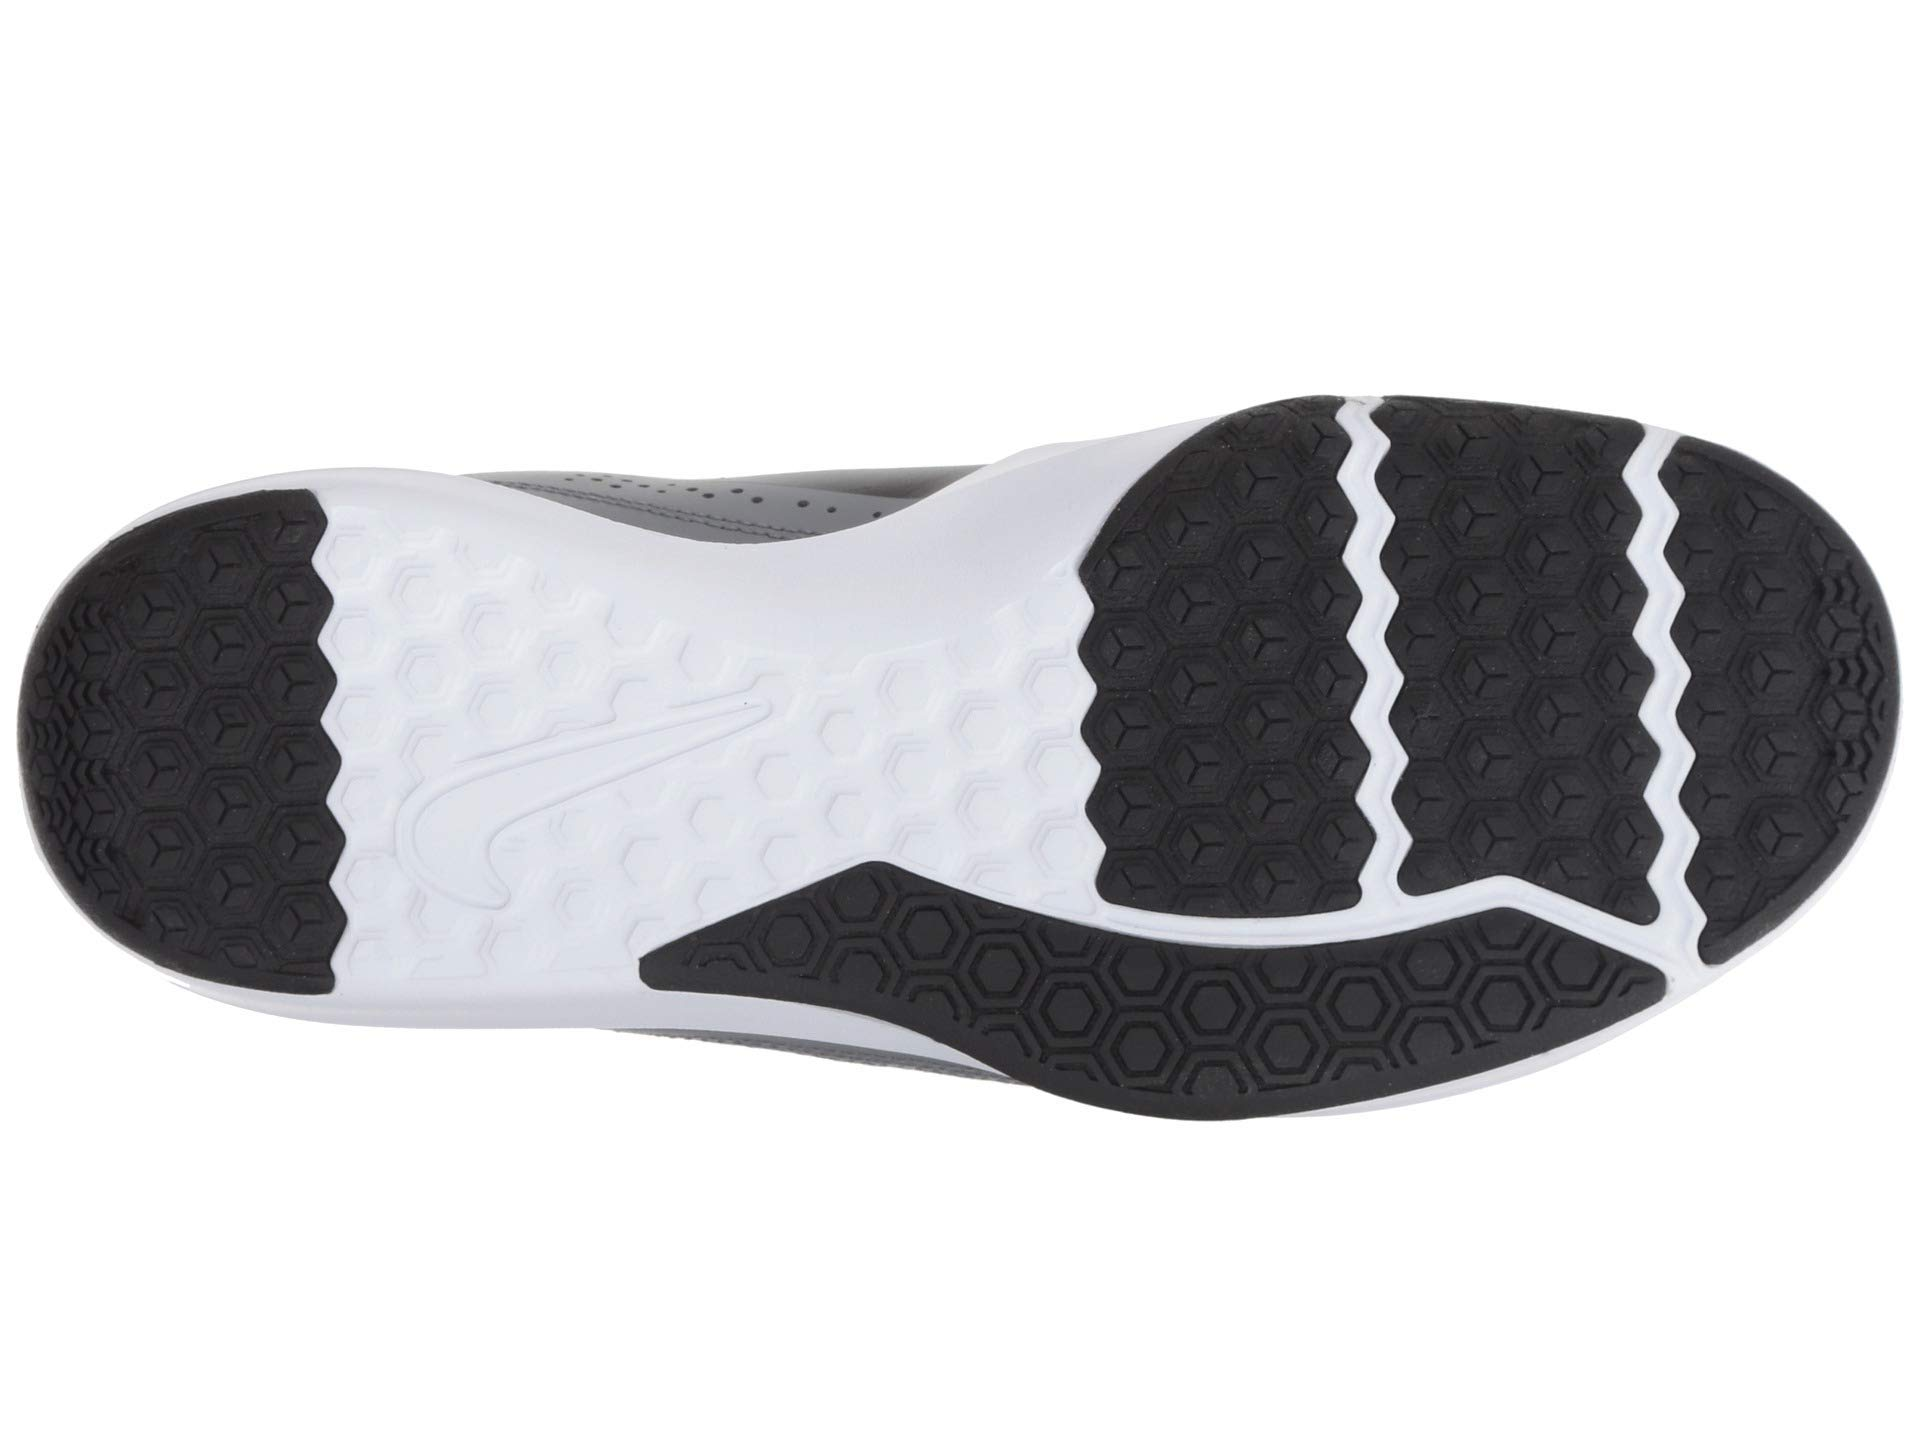chevron: (367, 531, 844, 998), (1374, 414, 1640, 694), (113, 628, 345, 871), (909, 655, 1113, 865)
polygon: (367, 531, 844, 998), (1374, 414, 1640, 694), (1039, 905, 1274, 1150), (113, 628, 345, 871), (909, 655, 1113, 865), (1318, 921, 1497, 1127)
quad: (1374, 414, 1640, 694), (113, 628, 345, 871)
star: (1374, 414, 1640, 694), (113, 628, 345, 871)
